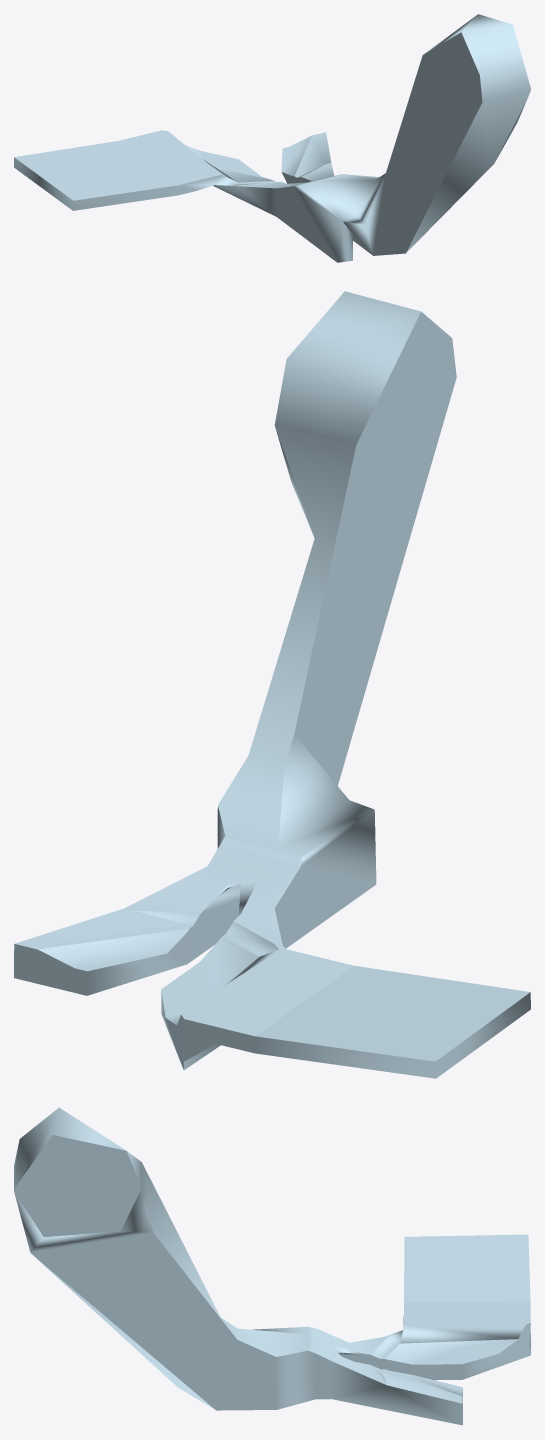
Rendered from decode-trigger.glb.
3 renders of one model, top to bottom at view 1: azimuth 30°, elevation 25°; view 2: azimuth 150°, elevation 25°; view 3: azimuth 270°, elevation 25°, orthographic. The views are drawn at different scales.
Visible parts, largest first — view 1: telemark-cad-trigger; view 2: telemark-cad-trigger; view 3: telemark-cad-trigger.
Boxes of the visible parts, bbox=[...] form: telemark-cad-trigger: bbox=[14, 14, 530, 262]; telemark-cad-trigger: bbox=[14, 291, 530, 1078]; telemark-cad-trigger: bbox=[14, 1107, 530, 1425].
Bounding box in the file's own units: 0.0869 × 0.0808 × 0.1293.
1 material, 1 textured.
